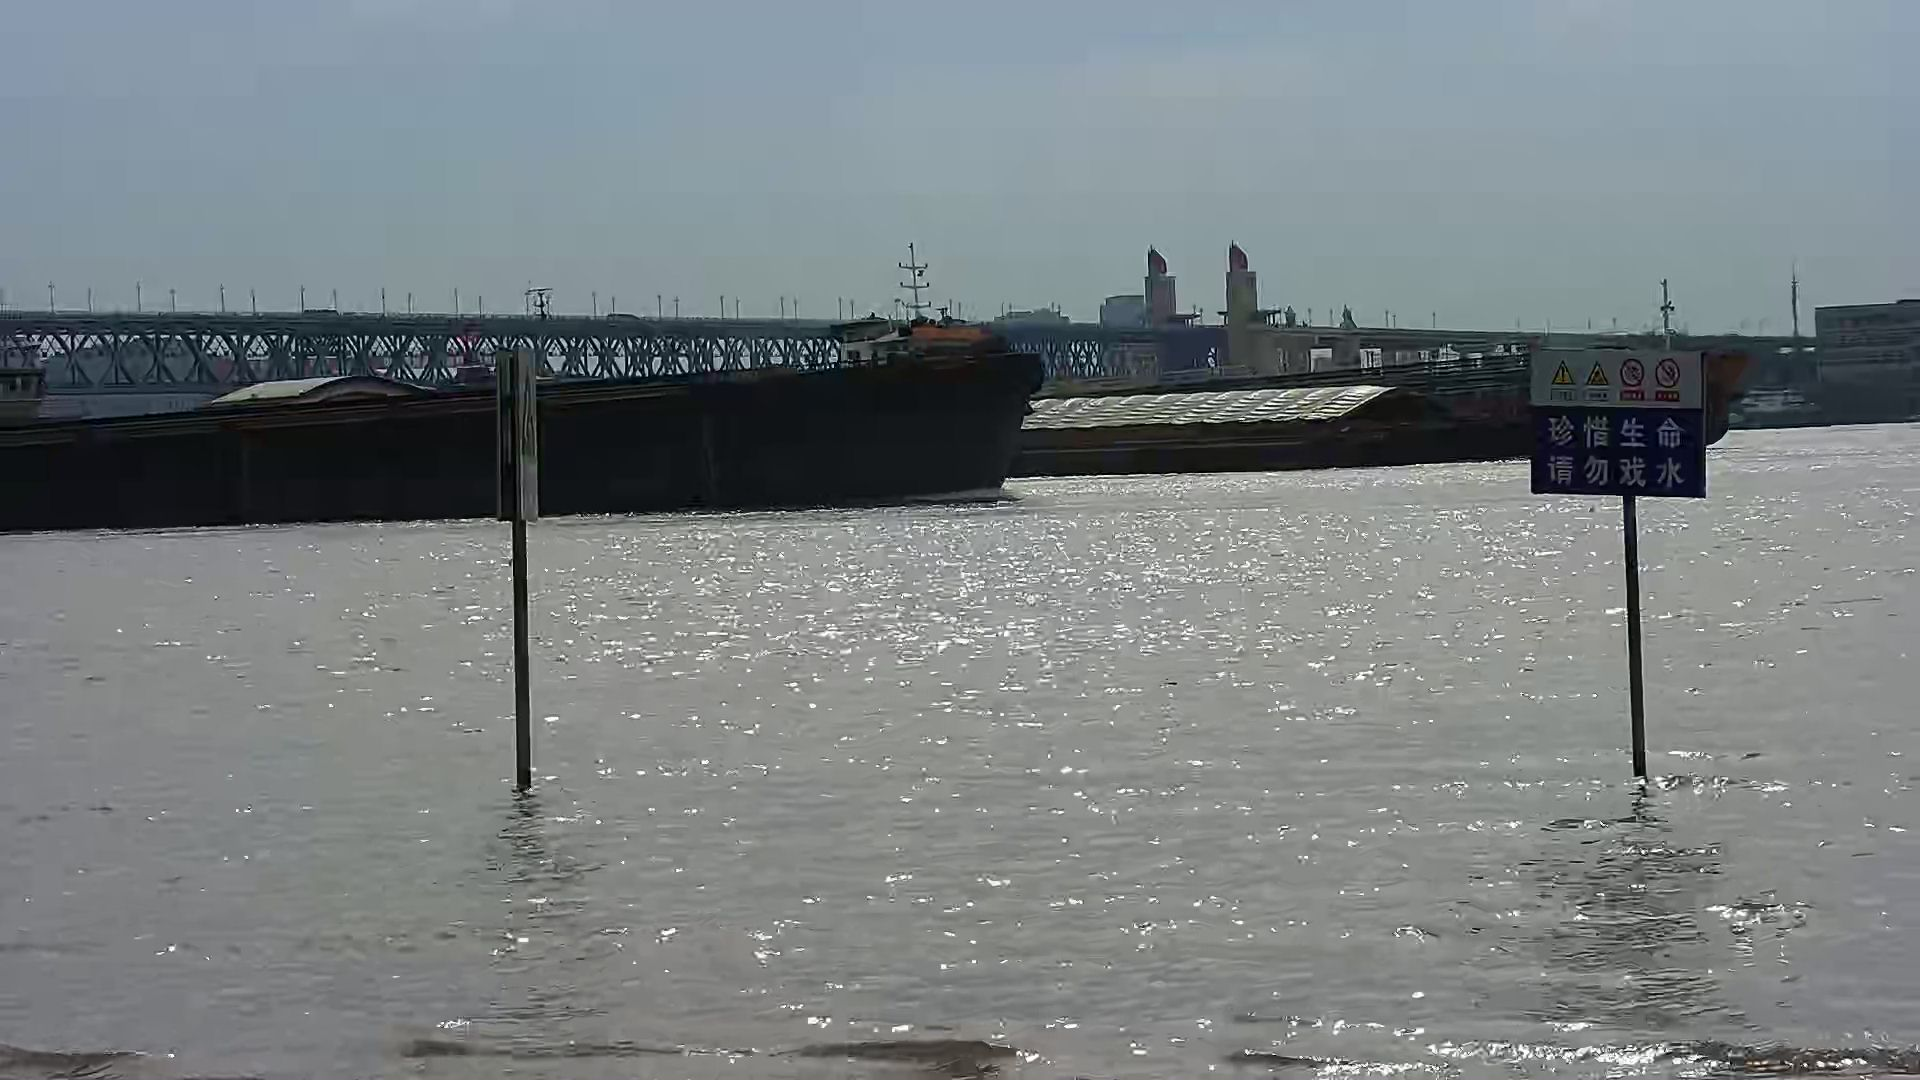bridge: (7, 258, 1821, 419)
mast: (1491, 338, 1733, 822), (487, 338, 558, 796)
ship: (1, 343, 1062, 535), (827, 237, 1474, 460), (1729, 378, 1845, 440)
